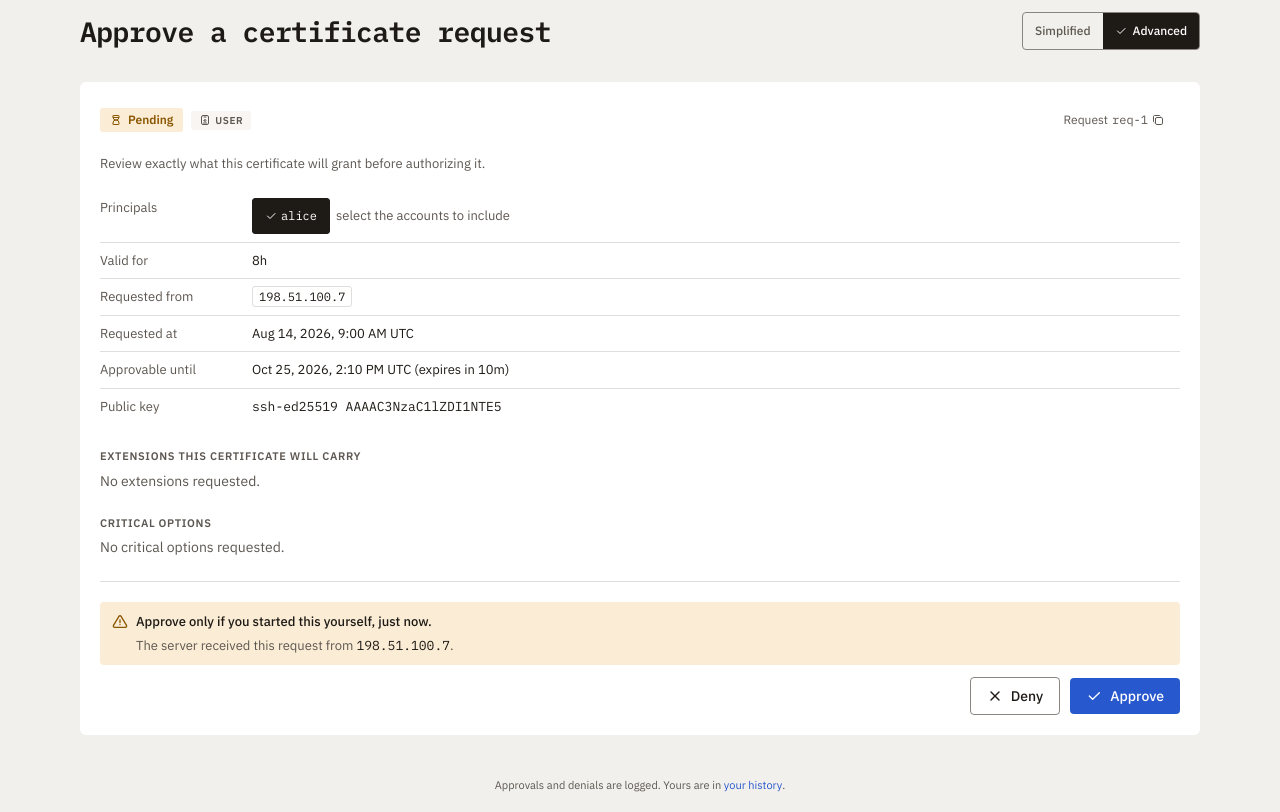
Test: when a decision does not go through › should show the server reason when the request reads back unchanged
Click the button with test id "approve-button": {"x": 1125, "y": 696} [1070,678,1180,714]
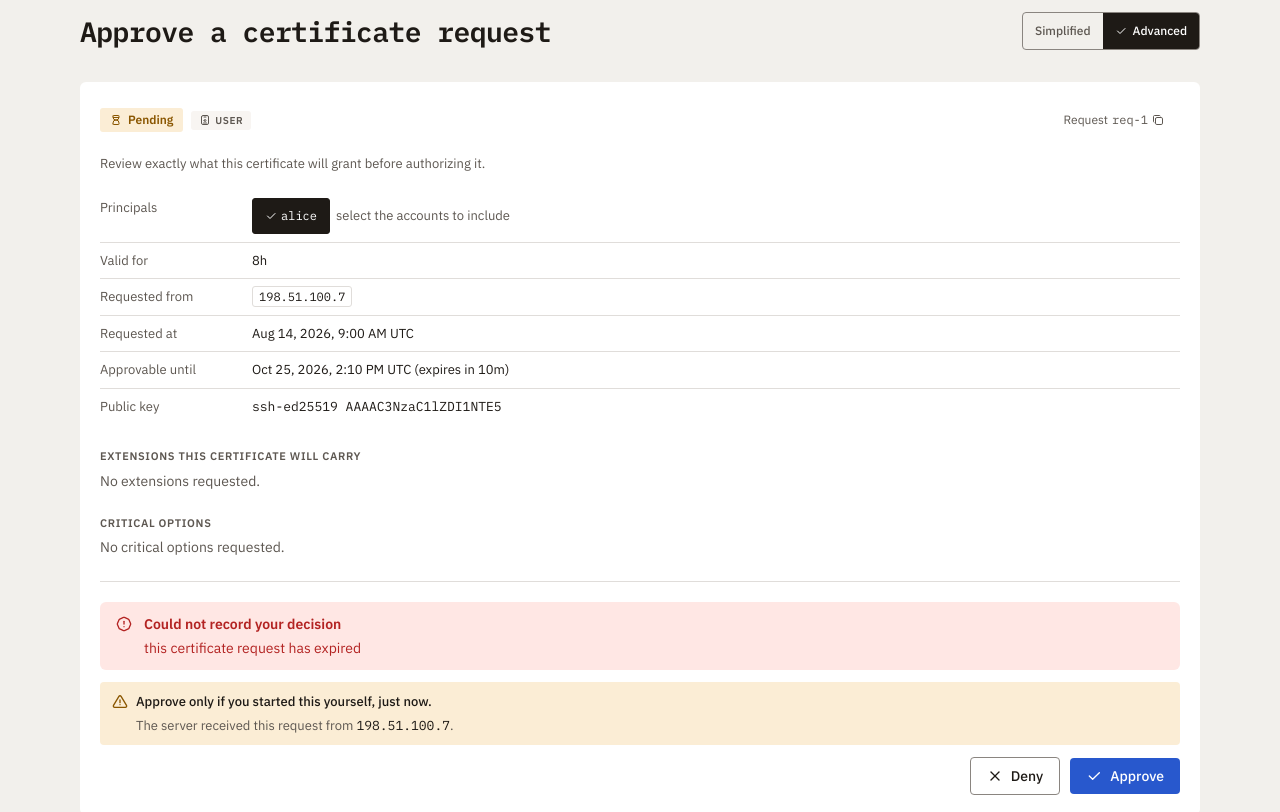
Now the message with test id "action-error" shows "this certificate request has expired", box [144,639,361,657]
